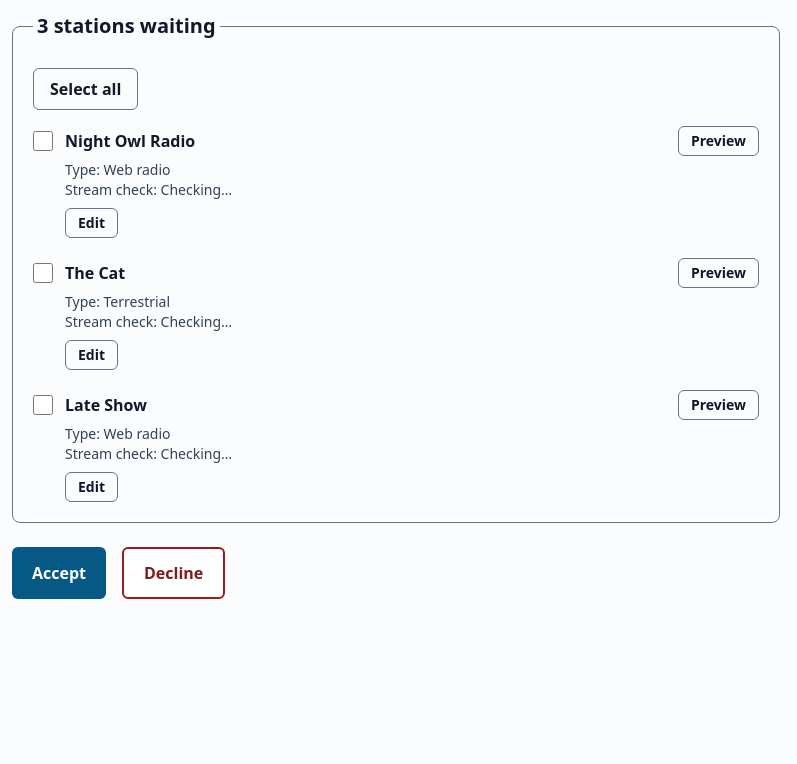
Test: edits a station's stream address, and keeps the form open when it does not play
Click the button "Edit" below "Terrestrial" at (92, 355), box [65,340,118,370]
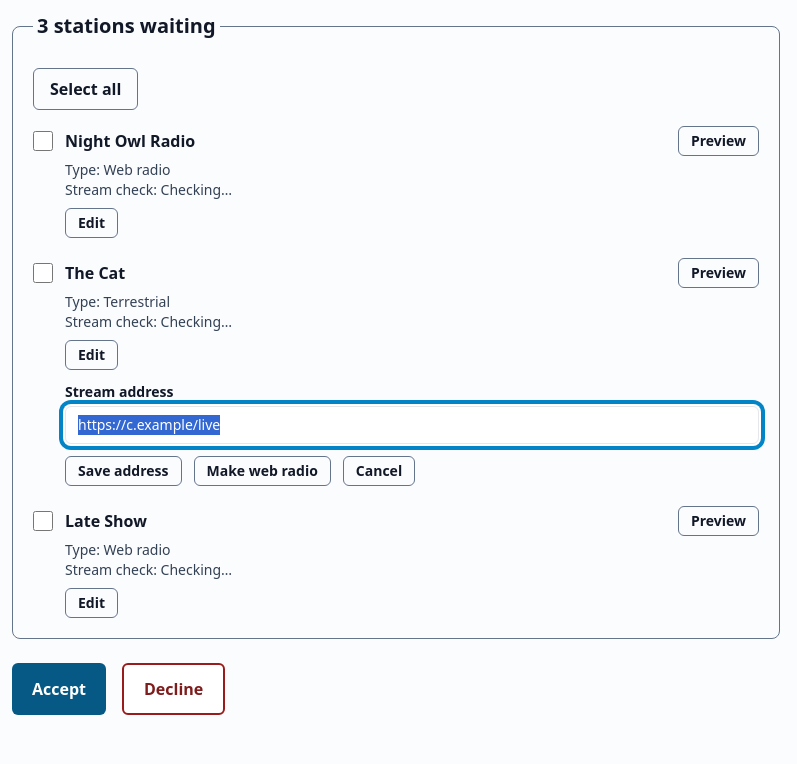
Now the field labelled "Stream address" holds "https://c.example/live"
Replace the text in the field labelled "Stream address" with "thecat" at (412, 425), box [65,406,759,444]
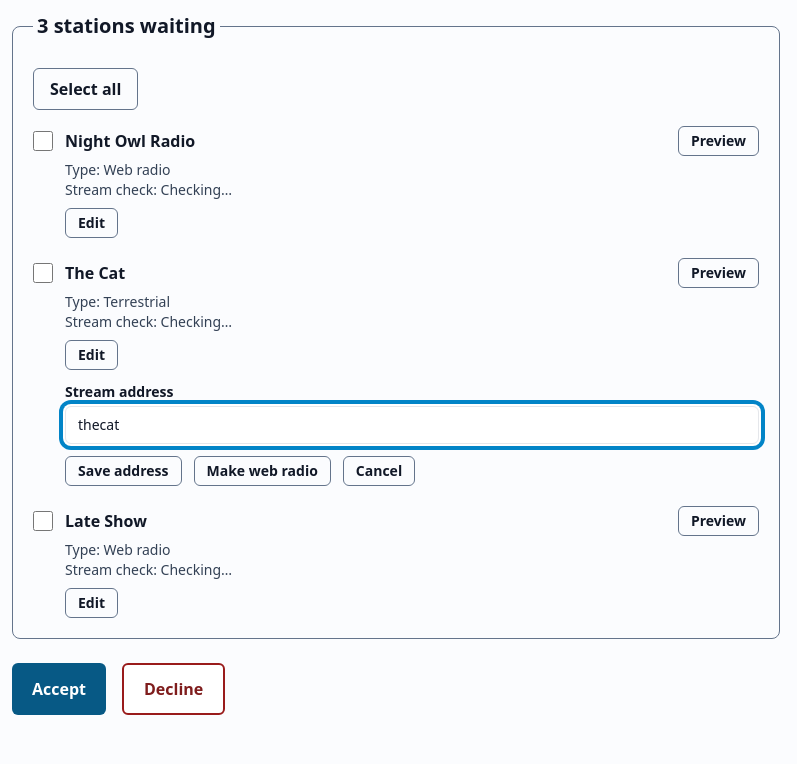
Click the button "Save address" at (123, 471), box [65,456,182,486]
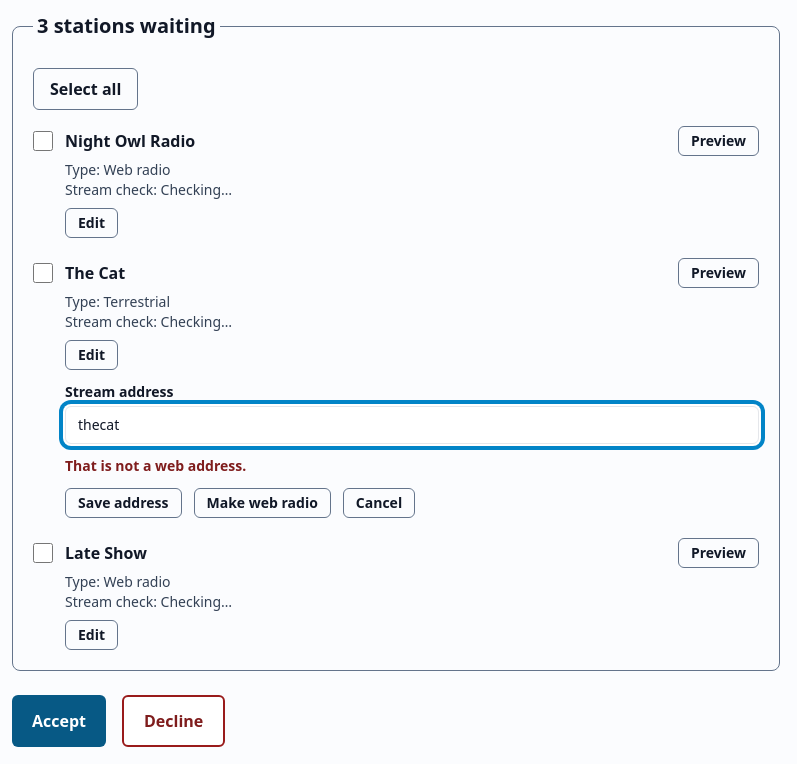
Now the text "That is not a web address." is shown, box [65,456,246,475]
Replace the text in the field labelled "Stream address" with "https://c.example/new" at (412, 425), box [65,406,759,444]
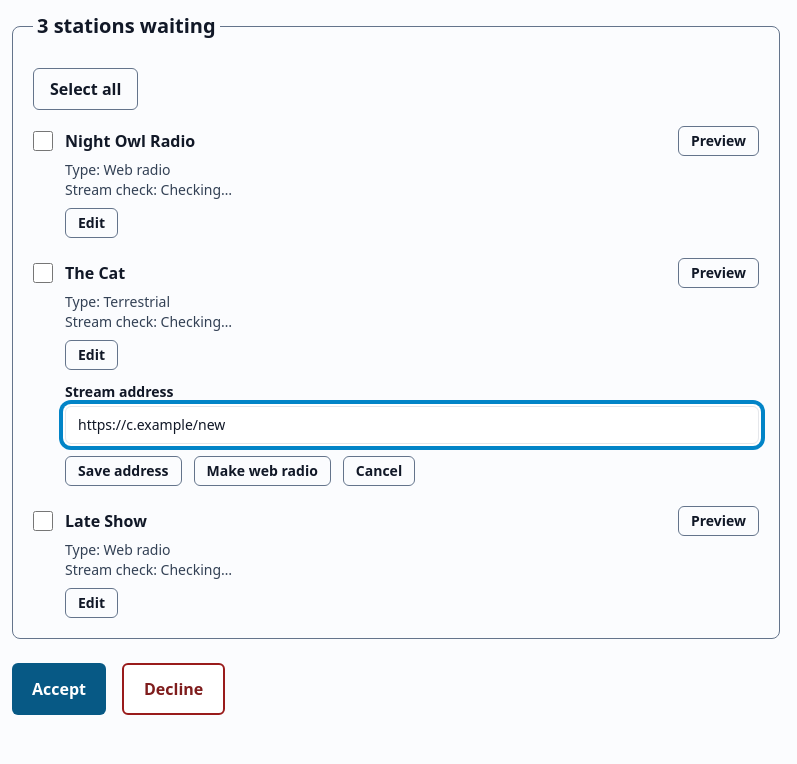
Click the button "Save address" at (123, 471), box [65,456,182,486]
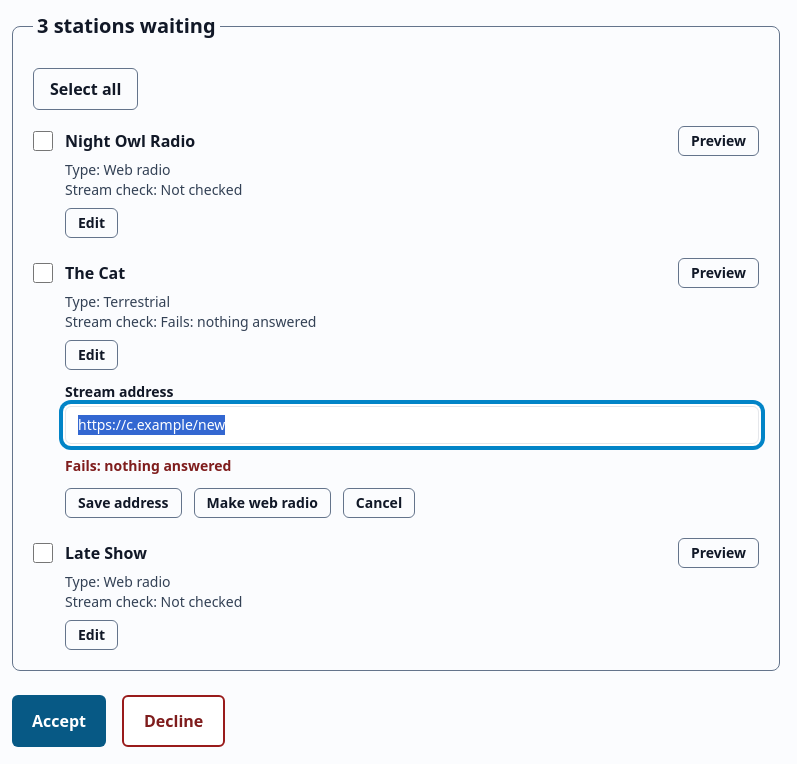
Now the text "Fails: nothing answered" is shown, box [65,456,232,475]
Click the button "Save address" at (123, 503), box [65,488,182,518]
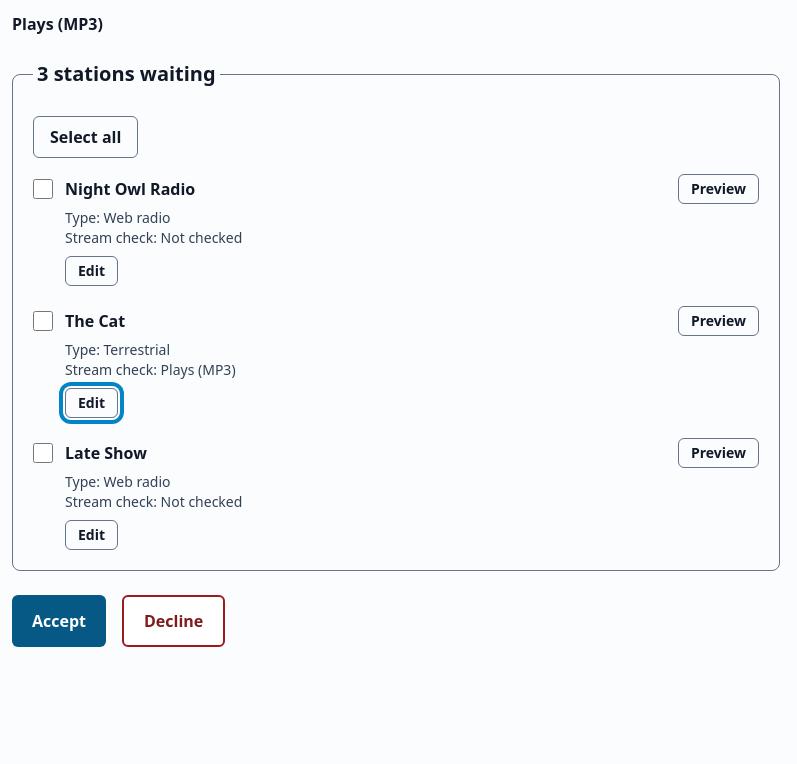
Now the text "Plays (MP3)" is shown, box [12,13,103,35]
Now the label "Stream address" is gone
